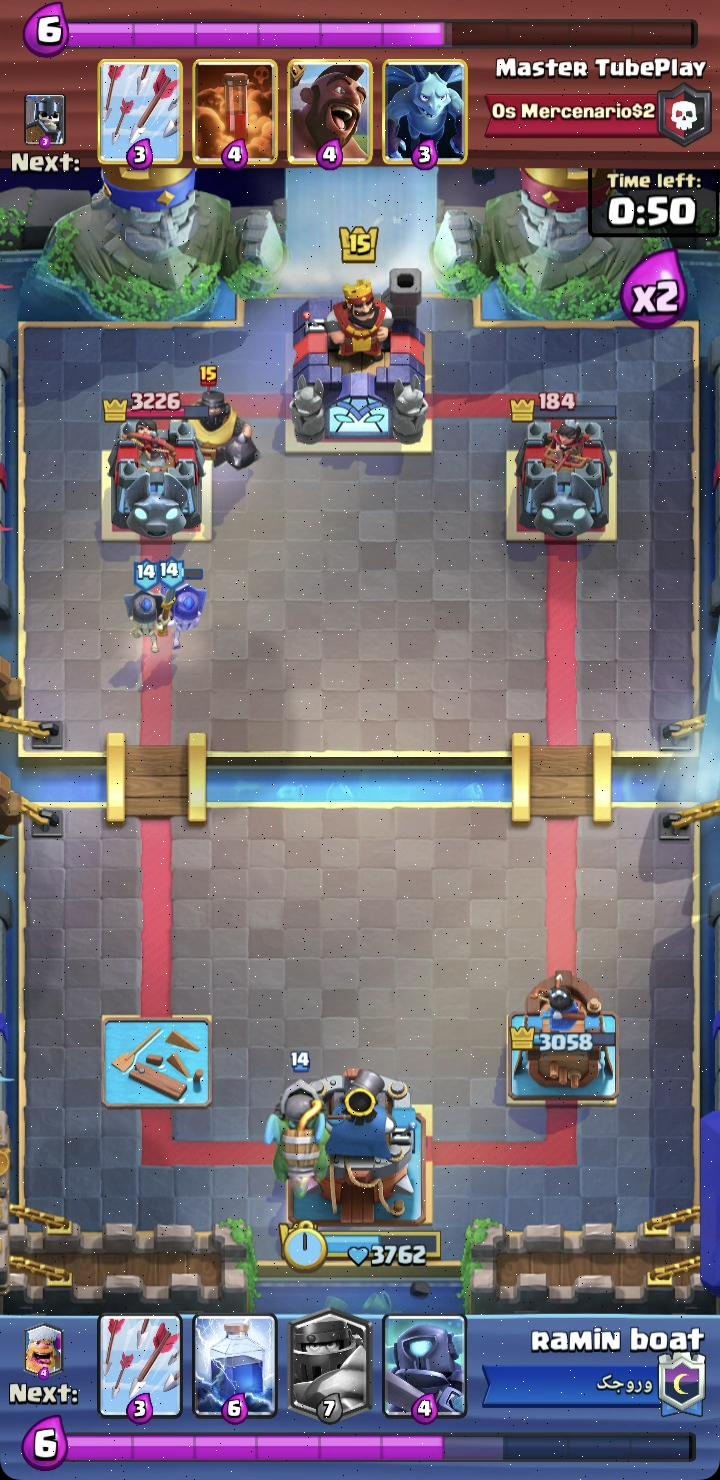EKingTower: (290, 279, 431, 446)
EMegaKnight: (184, 367, 258, 470)
EnemyPrincessTower: (516, 419, 611, 540), (110, 420, 203, 538)
OGuard: (124, 558, 173, 651), (163, 561, 206, 650)
OInfernoDrag: (265, 1080, 331, 1196)
OwnKingTower: (266, 1069, 432, 1226)
OwnPrincessTower: (508, 971, 616, 1103)
TowerDown: (102, 1016, 211, 1108)
